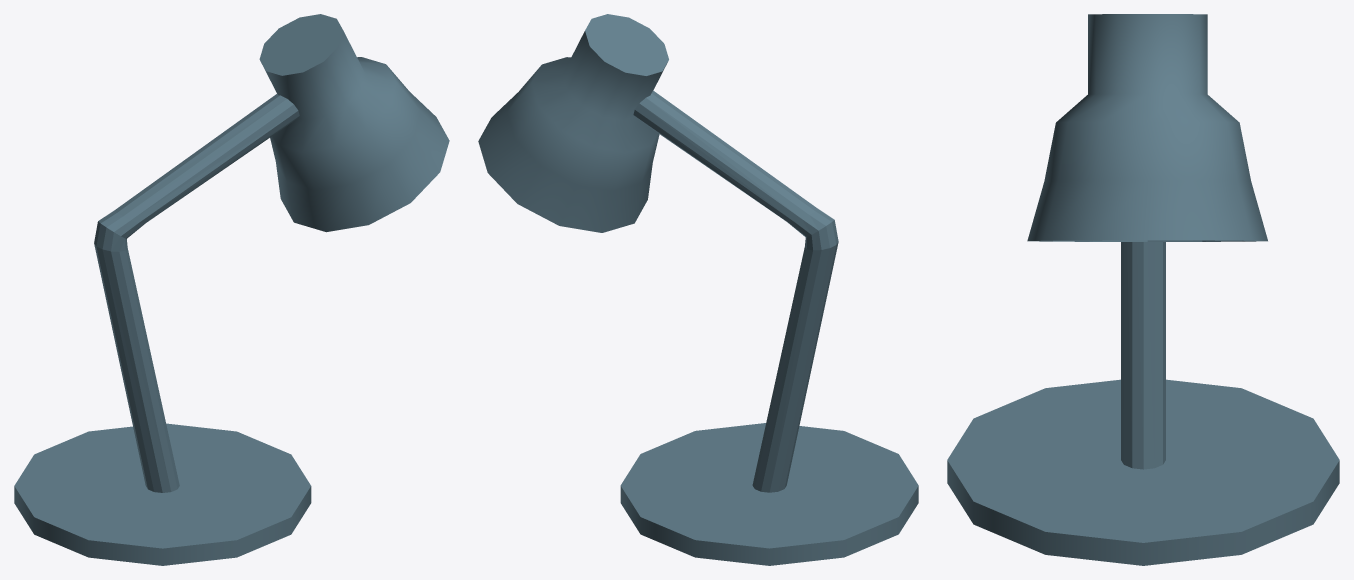
The model's file is Desk_lamp.FBX.
3 renders of one model, left to right at view 1: azimuth 30°, elevation 25°; view 2: azimuth 150°, elevation 25°; view 3: azimuth 270°, elevation 25°, orthographic. The views are drawn at different scales.
Parts seen in each view (by area): view 1: Desk_Lamp; view 2: Desk_Lamp; view 3: Desk_Lamp.
Part boxes in pixels (<box>): Desk_Lamp: <box>14,14,449,565</box>; Desk_Lamp: <box>478,14,918,565</box>; Desk_Lamp: <box>947,14,1339,565</box>.
Size of the model in its own units: 15.32 by 15.97 by 9.75.
